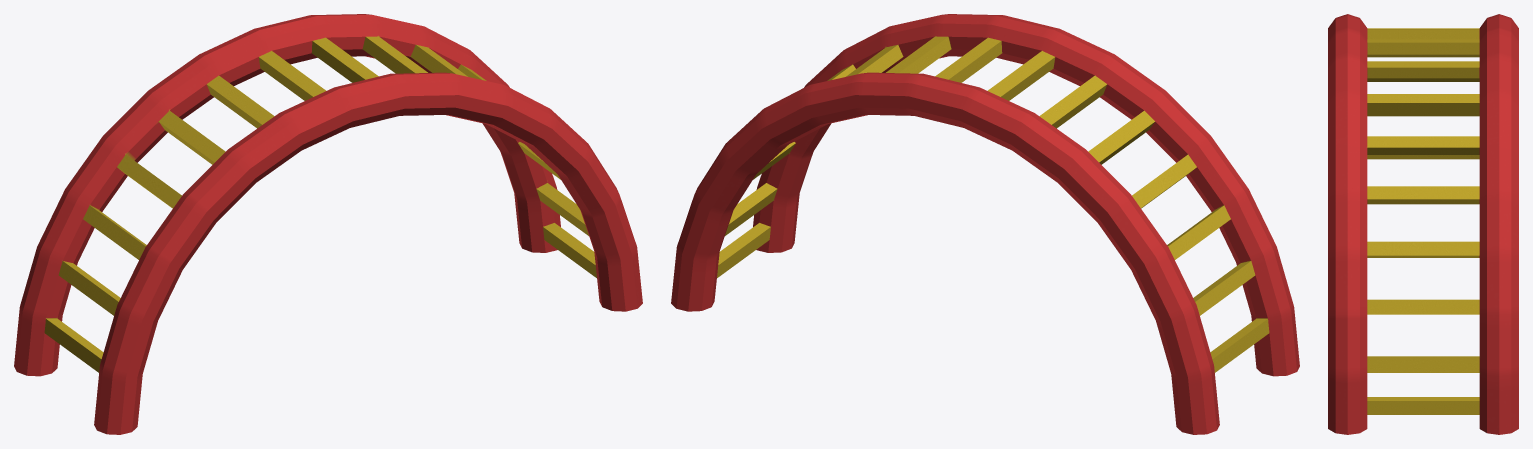
The model's file is Monkey_Bar.glb.
3 views of the same model, side by side, from view 1: azimuth 30°, elevation 25°; view 2: azimuth 150°, elevation 25°; view 3: azimuth 270°, elevation 25° (orthographic). The views are drawn at different scales.
Parts seen in each view (by area): view 1: monkeyBarHIGH; view 2: monkeyBarHIGH; view 3: monkeyBarHIGH.
Boxes of the visible parts, x1,y1,x2,y2 form: monkeyBarHIGH: (14,14,642,434); monkeyBarHIGH: (671,14,1299,434); monkeyBarHIGH: (1328,14,1518,434).
Size of the model in its own units: 8.6 by 4.28 by 2.77.
Materials: 1 (1 with a texture image).
